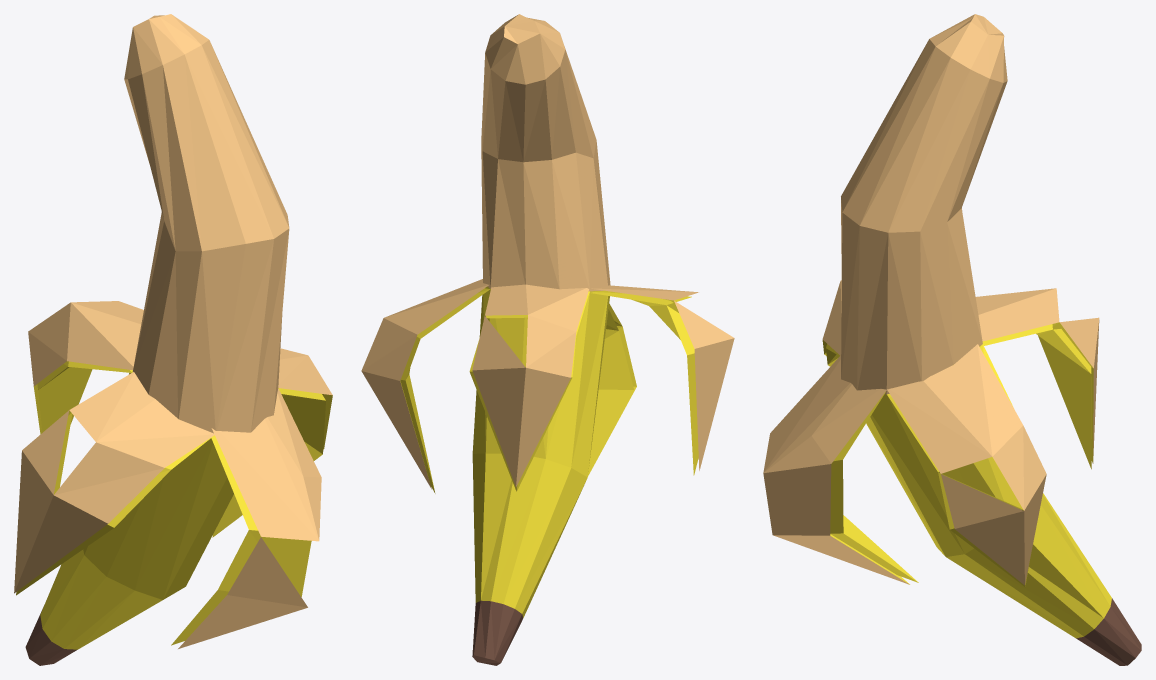
Rendered from Banana Peeled.glb.
3 renders of one model, left to right at view 1: azimuth 30°, elevation 25°; view 2: azimuth 150°, elevation 25°; view 3: azimuth 270°, elevation 25°, orthographic. The views are drawn at different scales.
Parts seen in each view (by area): view 1: Node; view 2: Node; view 3: Node.
Boxes of the visible parts, x1,y1,x2,y2 form: Node: [14, 14, 332, 665]; Node: [361, 14, 734, 665]; Node: [763, 14, 1141, 665].
Bounding box in the file's own units: 0.1073 × 0.2083 × 0.1078.
